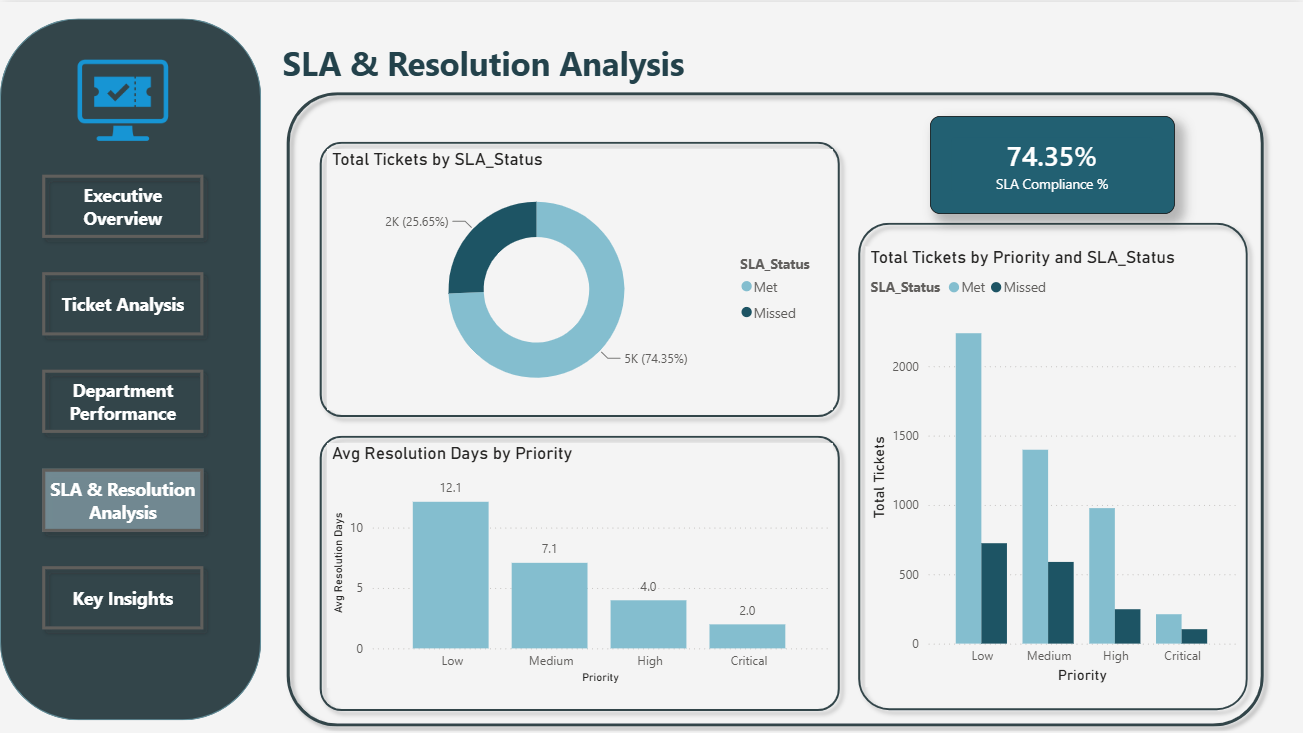

This screenshot's page, from the dashboard's own definition file:
{"tool":"powerbi","page":{"name":"SLA & Resolution Analysis","canvas":[1280,720],"ordinal":3},"visuals":[{"type":"shape","box":[0,16,256,688],"z":2000},{"type":"actionButton","box":[32,160,176,80],"z":3000},{"type":"actionButton","box":[32,256,176,80],"z":4000},{"type":"actionButton","box":[32,352,176,80],"z":5000},{"type":"actionButton","box":[32,448,176,80],"z":6000},{"type":"actionButton","box":[32,544,176,80],"z":7000},{"type":"image","box":[64,32,112,128],"z":8000},{"type":"textbox","box":[272,32,416,64],"z":9000},{"type":"shape","box":[272,80,976,640],"z":10000},{"type":"shape","box":[832,208,400,496],"z":11000},{"type":"shape","box":[304,128,528,288],"z":12000},{"type":"shape","box":[304,416,528,288],"z":13000},{"type":"cardVisual","fields":{"Data":["IT_Service_Desk_Dataset.SLA Compliance %"]},"box":[912,112,240,96],"z":14000},{"type":"clusteredColumnChart","fields":{"Category":["IT_Service_Desk_Dataset.Priority"],"Series":["IT_Service_Desk_Dataset.SLA_Status"],"Y":["IT_Service_Desk_Dataset.Total Tickets"]},"box":[848,240,368,432],"z":15000},{"type":"donutChart","fields":{"Category":["IT_Service_Desk_Dataset.SLA_Status"],"Y":["IT_Service_Desk_Dataset.Total Tickets"]},"box":[320,144,496,256],"z":15500},{"type":"clusteredColumnChart","fields":{"Y":["IT_Service_Desk_Dataset.Avg Resolution Days"],"Category":["IT_Service_Desk_Dataset.Priority"]},"box":[320,432,496,240],"z":16000}]}

Visuals, with their boxes in screenshot pixels (x1, y1, x2, y2), scaled from the page's 1280x720 canvas onto the 1303x733 screenshot:
shape: locate(0, 16, 261, 717)
actionButton: locate(33, 163, 212, 244)
actionButton: locate(33, 261, 212, 342)
actionButton: locate(33, 358, 212, 440)
actionButton: locate(33, 456, 212, 538)
actionButton: locate(33, 554, 212, 635)
image: locate(65, 33, 179, 163)
textbox: locate(277, 33, 700, 98)
shape: locate(277, 81, 1270, 732)
shape: locate(847, 212, 1254, 717)
shape: locate(309, 130, 847, 424)
shape: locate(309, 424, 847, 717)
cardVisual - IT_Service_Desk_Dataset.SLA Compliance %: locate(928, 114, 1173, 212)
clusteredColumnChart - IT_Service_Desk_Dataset.Priority x IT_Service_Desk_Dataset.SLA_Status: locate(863, 244, 1238, 684)
donutChart - IT_Service_Desk_Dataset.SLA_Status x IT_Service_Desk_Dataset.Total Tickets: locate(326, 147, 831, 407)
clusteredColumnChart - IT_Service_Desk_Dataset.Avg Resolution Days x IT_Service_Desk_Dataset.Priority: locate(326, 440, 831, 684)
